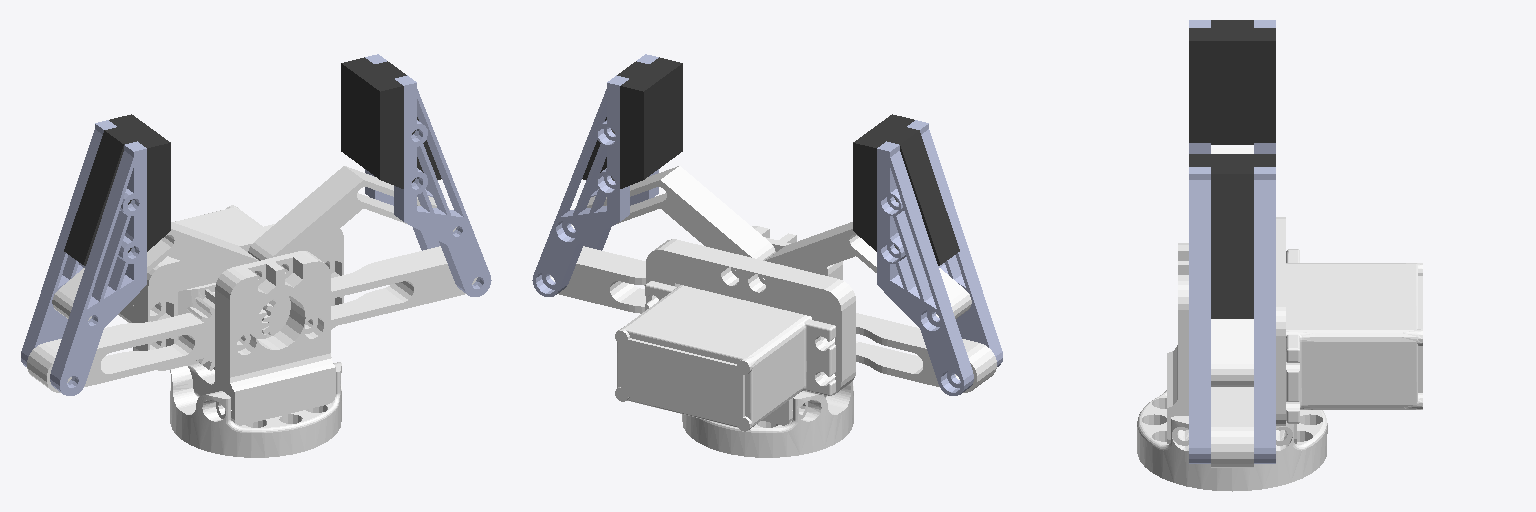
URDF robot description (gripper):
<?xml version="1.0" ?>
<!-- =================================================================================== -->
<!-- |    This document was autogenerated by xacro from [local-path]/Documents/Master/3_Semester/Produktentwicklung/Awesome_Gripper/Bewegungsanalyse/catkin_ws/src/gripper/urdf/gripper_all_joints.urdf.xacro | -->
<!-- |    EDITING THIS FILE BY HAND IS NOT RECOMMENDED                                 | -->
<!-- =================================================================================== -->
<!-- This URDF was automatically created by SolidWorks to URDF Exporter! Originally created by
[author] ([email redacted]) 
     Commit Version: 1.6.0-4-g7f85cfe  Build Version: 1.6.7995.38578
     For more information, please see http://wiki.ros.org/sw_urdf_exporter -->
<robot name="gripper">
    <!-- <link name="world">

  </link>
  <joint name="gripper_joint" type="fixed">
    <parent link="world" />
    <child link="mount_link" />
    <origin xyz="0 0 1" rpy="0 0 -1.57" />
  </joint> -->
    <link name="mount_link">
        <inertial>
            <origin rpy="0 0 0" xyz="-7.69604728464136E-05 0.0135902117365988 0.0250753455696242" />
            <mass value="0.0572428949081024" />
            <inertia ixx="1.08739624685948E-05" ixy="-5.67703825246591E-08" ixz="-4.79892598221548E-12" iyy="1.32071568573059E-05" iyz="-2.91877769990152E-07" izz="1.6026956946386E-05" />
        </inertial>
        <visual>
            <origin rpy="0 0 0" xyz="0 0 0" />
            <geometry>
                <mesh filename="package://gripper/meshes/mount_link.STL" />
            </geometry>
            <material name="">
                <color rgba="1 1 1 0.8" />
            </material>
        </visual>
        <collision>
            <origin rpy="0 0 0" xyz="0 0 0" />
            <geometry>
                <mesh filename="package://gripper/meshes/mount_link.STL" />
            </geometry>
        </collision>
    </link>
    <link name="link_1_left">
        <inertial>
            <origin rpy="0 0 0" xyz="0.0201642304338692 1.38777878078145E-17 0.004236242137124" />
            <mass value="0.00469706452647219" />
            <inertia ixx="1.18042272673537E-07" ixy="2.48380401664581E-22" ixz="-6.12806042251421E-08" iyy="2.05310941947316E-06" iyz="-2.74480147325617E-24" izz="2.10931388717727E-06" />
        </inertial>
        <visual>
            <origin rpy="0 0 0" xyz="0 0 0" />
            <geometry>
                <mesh filename="package://gripper/meshes/link_1_left.STL" />
            </geometry>
            <material name="">
                <color rgba="1 1 1 1" />
            </material>
        </visual>
        <collision>
            <origin rpy="0 0 0" xyz="0 0 0" />
            <geometry>
                <mesh filename="package://gripper/meshes/link_1_left.STL" />
            </geometry>
        </collision>
    </link>
    <joint name="joint_1_left" type="revolute">
        <origin rpy="1.5708 0 3.1416" xyz="-0.01 -0.005 0.02925" />
        <parent link="mount_link" />
        <child link="link_1_left" />
        <axis xyz="0 0 -1" />
        <limit effort="1" lower="-3.14" upper="3.14" velocity="1" />
        <dynamics damping="1" friction="1" />
        <!-- <mimic
      joint="joint_1_right"
      multiplier="-1"
      offset="0" /> -->
    </joint>
    <link name="link_2_left">
        <inertial>
            <origin rpy="0 0 0" xyz="-0.0118635948259238 0.0260158233367256 -9.35122738154528E-05" />
            <mass value="0.00437161591060403" />
            <inertia ixx="1.26241086249325E-06" ixy="4.50233056113258E-07" ixz="1.03279945421963E-09" iyy="2.54614187804496E-07" iyz="-1.94371719517842E-09" izz="1.49861390642806E-06" />
        </inertial>
        <visual>
            <origin rpy="0 0 0" xyz="0 0 0" />
            <geometry>
                <mesh filename="package://gripper/meshes/link_2_left.STL" />
            </geometry>
            <material name="">
                <color rgba="0.792156862745098 0.819607843137255 0.933333333333333 1" />
            </material>
        </visual>
        <collision>
            <origin rpy="0 0 0" xyz="0 0 0" />
            <geometry>
                <mesh filename="package://gripper/meshes/link_2_left.STL" />
            </geometry>
        </collision>
    </link>
    <joint name="joint_2_left" type="revolute">
        <origin rpy="0 0 0" xyz="0.05 0 0.005" />
        <parent link="link_1_left" />
        <child link="link_2_left" />
        <axis xyz="0 0 1" />
        <limit effort="1" lower="-3.14" upper="3.14" velocity="1" />
        <dynamics damping="1" friction="1" />
        <!-- <mimic
      joint="joint_1_left"
      multiplier="1"
      offset="0" /> -->
    </joint>
    <link name="link_3_left">
        <inertial>
            <origin rpy="0 0 0" xyz="-0.00764323689249072 6.15392821018979E-19 -0.0158438878575795" />
            <mass value="0.00676809927823876" />
            <inertia ixx="6.50800323977911E-07" ixy="-2.76588985914095E-23" ixz="-1.32178480768053E-07" iyy="7.0118965410435E-07" iyz="-3.28680901965363E-23" izz="3.53298937602956E-07" />
        </inertial>
        <visual>
            <origin rpy="0 0 0" xyz="0 0 0" />
            <geometry>
                <mesh filename="package://gripper/meshes/link_3_left.STL" />
            </geometry>
            <material name="">
                <color rgba="0.298039215686275 0.298039215686275 0.298039215686275 1" />
            </material>
        </visual>
        <collision>
            <origin rpy="0 0 0" xyz="0 0 0" />
            <geometry>
                <mesh filename="package://gripper/meshes/link_3_left.STL" />
            </geometry>
        </collision>
    </link>
    <joint name="joint_3_left" type="fixed">
        <origin rpy="1.5708 0 3.1416" xyz="-0.029 0.061 0" />
        <parent link="link_2_left" />
        <child link="link_3_left" />
        <axis xyz="0 0 0" />
        <limit effort="1" lower="-3.14" velocity="1" />
    </joint>
    <link name="link_support_left">
        <inertial>
            <origin rpy="0 0 0" xyz="-0.0230443185065054 -1.92516886232946E-18 -0.00617590354942425" />
            <mass value="0.00343879121636352" />
            <inertia ixx="3.3013163060583E-07" ixy="-4.9675081730519E-23" ixz="-3.63783392132806E-07" iyy="9.95820730062242E-07" iyz="1.93019503238979E-23" izz="7.23002286395804E-07" />
        </inertial>
        <visual>
            <origin rpy="0 0 0" xyz="0 0 0" />
            <geometry>
                <mesh filename="package://gripper/meshes/link_support_left.STL" />
            </geometry>
            <material name="">
                <color rgba="1 1 1 1" />
            </material>
        </visual>
        <collision>
            <origin rpy="0 0 0" xyz="0 0 0" />
            <geometry>
                <mesh filename="package://gripper/meshes/link_support_left.STL" />
            </geometry>
        </collision>
    </link>
    <joint name="joint_support_left" type="revolute">
        <origin rpy="0 0.5236 0" xyz="-0.004 0 0.04525" />
        <parent link="mount_link" />
        <child link="link_support_left" />
        <axis xyz="0 1 0" />
        <limit effort="1" lower="-3.14" upper="3.14" velocity="1" />
        <dynamics damping="1" friction="1" />
        <!-- <mimic
      joint="joint_1_left"
      multiplier="-1"
      offset="0" /> -->
    </joint>
    <link name="link_1_right">
        <inertial>
            <origin rpy="0 0 0" xyz="0.0216856425487956 -3.46944695195361E-18 0.000708029008234877" />
            <mass value="0.00477903641271765" />
            <inertia ixx="1.1732564402647E-07" ixy="-1.80664133980049E-23" ixz="6.51369632433988E-08" iyy="2.08980923685234E-06" iyz="-1.49480652486311E-23" izz="2.14169254123333E-06" />
        </inertial>
        <visual>
            <origin rpy="0 0 0" xyz="0 0 0" />
            <geometry>
                <mesh filename="package://gripper/meshes/link_1_right.STL" />
            </geometry>
            <material name="">
                <color rgba="1 1 1 1" />
            </material>
        </visual>
        <collision>
            <origin rpy="0 0 0" xyz="0 0 0" />
            <geometry>
                <mesh filename="package://gripper/meshes/link_1_right.STL" />
            </geometry>
        </collision>
    </link>
    <joint name="joint_1_right" type="revolute">
        <origin rpy="1.5708 0 0" xyz="0.01 0 0.02925" />
        <parent link="mount_link" />
        <child link="link_1_right" />
        <axis xyz="0 0 1" />
        <limit effort="1" lower="0" upper="1.05" velocity="1" />
        <dynamics damping="1" friction="1" />
    </joint>
    <link name="link_2_right">
        <inertial>
            <origin rpy="0 0 0" xyz="-0.0118635948259238 0.0260158233367256 9.35122738154512E-05" />
            <mass value="0.00437161591060403" />
            <inertia ixx="1.26241086249325E-06" ixy="4.50233056113258E-07" ixz="-1.03279945421962E-09" iyy="2.54614187804496E-07" iyz="1.9437171951784E-09" izz="1.49861390642806E-06" />
        </inertial>
        <visual>
            <origin rpy="0 0 0" xyz="0 0 0" />
            <geometry>
                <mesh filename="package://gripper/meshes/link_2_right.STL" />
            </geometry>
            <material name="">
                <color rgba="0.792156862745098 0.819607843137255 0.933333333333333 1" />
            </material>
        </visual>
        <collision>
            <origin rpy="0 0 0" xyz="0 0 0" />
            <geometry>
                <mesh filename="package://gripper/meshes/link_2_right.STL" />
            </geometry>
        </collision>
    </link>
    <joint name="joint_2_right" type="revolute">
        <origin rpy="0 0 0" xyz="0.05 0 0" />
        <parent link="link_1_right" />
        <child link="link_2_right" />
        <axis xyz="0 0 -1" />
        <limit effort="1" lower="-3.14" upper="3.14" velocity="1" />
        <dynamics damping="1" friction="1" />
        <!-- <mimic
      joint="joint_1_right"
      multiplier="1"
      offset="0" /> -->
    </joint>
    <link name="link_3_right">
        <inertial>
            <origin rpy="0 0 0" xyz="0.00764323689249072 -6.70481136450209E-19 -0.0158438878575795" />
            <mass value="0.00676809927823876" />
            <inertia ixx="6.50800323977911E-07" ixy="-3.90699123108268E-23" ixz="1.32178480768053E-07" iyy="7.0118965410435E-07" iyz="-1.94350230005656E-23" izz="3.53298937602955E-07" />
        </inertial>
        <visual>
            <origin rpy="0 0 0" xyz="0 0 0" />
            <geometry>
                <mesh filename="package://gripper/meshes/link_3_right.STL" />
            </geometry>
            <material name="">
                <color rgba="0.298039215686275 0.298039215686275 0.298039215686275 1" />
            </material>
        </visual>
        <collision>
            <origin rpy="0 0 0" xyz="0 0 0" />
            <geometry>
                <mesh filename="package://gripper/meshes/link_3_right.STL" />
            </geometry>
        </collision>
    </link>
    <joint name="joint_3_right" type="fixed">
        <origin rpy="-1.5708 0 0" xyz="-0.029 0.061 0" />
        <parent link="link_2_right" />
        <child link="link_3_right" />
        <axis xyz="0 0 0" />
    </joint>
    <link name="link_support_right">
        <inertial>
            <origin rpy="0 0 0" xyz="-0.0230443185065054 2.00458308010044E-18 -0.00617590354942422" />
            <mass value="0.00343879121636352" />
            <inertia ixx="3.3013163060583E-07" ixy="1.63567262663565E-23" ixz="-3.63783392132805E-07" iyy="9.95820730062241E-07" iyz="2.40140706788198E-23" izz="7.23002286395803E-07" />
        </inertial>
        <visual>
            <origin rpy="0 0 0" xyz="0 0 0" />
            <geometry>
                <mesh filename="package://gripper/meshes/link_support_right.STL" />
            </geometry>
            <material name="">
                <color rgba="1 1 1 1" />
            </material>
        </visual>
        <collision>
            <origin rpy="0 0 0" xyz="0 0 0" />
            <geometry>
                <mesh filename="package://gripper/meshes/link_support_right.STL" />
            </geometry>
        </collision>
    </link>
    <joint name="joint_support_right" type="revolute">
        <origin rpy="0 0.5236 -3.1416" xyz="0.004 0 0.04525" />
        <parent link="mount_link" />
        <child link="link_support_right" />
        <axis xyz="0 1 0" />
        <limit effort="1" lower="-3.14" upper="3.14" velocity="1" />
        <dynamics damping="1" friction="1" />
        <!-- <mimic
      joint="joint_1_right"
      multiplier="1"
      offset="0" /> -->
    </joint>
    <!-- <link name="tcp_link">
    <visual>
      <origin xyz="0 0 0" rpy="0 0 0" />
      <geometry>
        <sphere radius="0.005" />
      </geometry>
      <material name="yellow">
        <color rgba="1 0 0 0.5" />
      </material>
    </visual>
  </link>

  <joint name="joint_tcp" type="prismatic">
    <parent link="mount_link" />
    <child link="tcp_link" />
    <origin xyz="0 0 0" rpy="0 0 0" /> 
    <axis xyz="0 0 1" />
    <limit lower="0.08" upper="0.13" effort="10" velocity="0.13" />
  </joint> -->
    <transmission name="trans_joint_1_left">
        <type>transmission_interface/SimpleTransmission</type>
        <joint name="joint_1_left">
            <hardwareInterface>hardware_interface/PositionJointInterface</hardwareInterface>
        </joint>
        <actuator name="joint_1_left_motor">
            <hardwareInterface>hardware_interface/PositionJointInterface</hardwareInterface>
            <mechanicalReduction>1</mechanicalReduction>
        </actuator>
    </transmission>
    <transmission name="trans_joint_2_left">
        <type>transmission_interface/SimpleTransmission</type>
        <joint name="joint_2_left">
            <hardwareInterface>hardware_interface/PositionJointInterface</hardwareInterface>
        </joint>
        <actuator name="joint_2_left_motor">
            <hardwareInterface>hardware_interface/PositionJointInterface</hardwareInterface>
            <mechanicalReduction>1</mechanicalReduction>
        </actuator>
    </transmission>
    <transmission name="trans_joint_support_left">
        <type>transmission_interface/SimpleTransmission</type>
        <joint name="joint_support_left">
            <hardwareInterface>hardware_interface/PositionJointInterface</hardwareInterface>
        </joint>
        <actuator name="joint_support_left_motor">
            <hardwareInterface>hardware_interface/PositionJointInterface</hardwareInterface>
            <mechanicalReduction>1</mechanicalReduction>
        </actuator>
    </transmission>
    <transmission name="trans_joint_1_right">
        <type>transmission_interface/SimpleTransmission</type>
        <joint name="joint_1_right">
            <hardwareInterface>hardware_interface/PositionJointInterface</hardwareInterface>
        </joint>
        <actuator name="joint_1_right_motor">
            <hardwareInterface>hardware_interface/PositionJointInterface</hardwareInterface>
            <mechanicalReduction>1</mechanicalReduction>
        </actuator>
    </transmission>
    <!-- <xacro:mimic_joint_plugin_gazebo name_prefix="joint_1_left"
  parent_joint="joint_1_right" mimic_joint="joint_1_left"
  has_pid="true" multiplier="-1.0" max_effort="100" />

  <xacro:mimic_joint_plugin_gazebo name_prefix="joint_2_right"
  parent_joint="joint_1_right" mimic_joint="joint_2_right"
  has_pid="true" multiplier="1.0" max_effort="100" />

  <xacro:mimic_joint_plugin_gazebo name_prefix="joint_support_right"
  parent_joint="joint_1_right" mimic_joint="joint_support_right"
  has_pid="true" multiplier="1.0" max_effort="100" />

  <xacro:mimic_joint_plugin_gazebo name_prefix="joint_2_left"
  parent_joint="joint_1_left" mimic_joint="joint_2_left"
  has_pid="true" multiplier="1.0" max_effort="100" />

  <xacro:mimic_joint_plugin_gazebo name_prefix="joint_support_left"
  parent_joint="joint_1_left" mimic_joint="joint_support_left"
  has_pid="true" multiplier="-1.0" max_effort="100" /> -->
    <transmission name="trans_joint_2_right">
        <type>transmission_interface/SimpleTransmission</type>
        <joint name="joint_2_right">
            <hardwareInterface>hardware_interface/PositionJointInterface</hardwareInterface>
        </joint>
        <actuator name="joint_2_right_motor">
            <hardwareInterface>hardware_interface/PositionJointInterface</hardwareInterface>
            <mechanicalReduction>1</mechanicalReduction>
        </actuator>
    </transmission>
    <transmission name="trans_joint_support_right">
        <type>transmission_interface/SimpleTransmission</type>
        <joint name="joint_support_right">
            <hardwareInterface>hardware_interface/PositionJointInterface</hardwareInterface>
        </joint>
        <actuator name="joint_support_right_motor">
            <hardwareInterface>hardware_interface/PositionJointInterface</hardwareInterface>
            <mechanicalReduction>1</mechanicalReduction>
        </actuator>
    </transmission>
    <!-- <transmission name="trans_joint_tcp">
    <type>transmission_interface/SimpleTransmission</type>
    <joint name="joint_tcp">
      <hardwareInterface>hardware_interface/PositionJointInterface</hardwareInterface>
    </joint>
    <actuator name="joint_tcp_motor">
      <hardwareInterface>hardware_interface/PositionJointInterface</hardwareInterface>
      <mechanicalReduction>1</mechanicalReduction>
    </actuator>
  </transmission> -->
    <gazebo>
        <plugin filename="libgazebo_ros_control.so" name="control" />
        <plugin name="gazebo_ros_control" filename="libgazebo_ros_control.so">
            <robotNamespace>/</robotNamespace>
        </plugin>
    </gazebo>
    <gazebo>
        <plugin filename="libgazebo_ros_joint_state_publisher.so" name="joint_state_publisher">
            <jointName>joint_1_left, joint_2_left, joint_support_left, joint_1_right, joint_2_right, joint_support_right</jointName>
        </plugin>
    </gazebo>
</robot>

--- What the picture shows (computed from the rendered views, not written in the file) ---
The picture shows the robot from 3 angles, left to right: view 1: azimuth 30°, elevation 25°; view 2: azimuth 150°, elevation 25°; view 3: azimuth 270°, elevation 25°; orthographic projection.
Robot: gripper — 9 links, 8 joints (6 revolute, 2 fixed); root link mount_link; default pose: every joint at zero.
Links seen in each view (by area): view 1: mount_link, link_2_left, link_2_right, link_1_left, link_3_right, link_1_right, link_3_left, link_support_right, link_support_left; view 2: mount_link, link_2_left, link_2_right, link_3_right, link_3_left, link_support_right, link_1_left, link_1_right, link_support_left; view 3: mount_link, link_2_right, link_3_left, link_3_right, link_1_right, link_support_right, link_2_left.
Boxes of the visible links, box(x1,y1,x2,y2) form: mount_link: box(118, 205, 343, 457); link_2_left: box(21, 120, 146, 395); link_2_right: box(365, 54, 491, 296); link_1_left: box(27, 289, 268, 392); link_3_right: box(341, 57, 441, 188); link_1_right: box(262, 246, 477, 337); link_3_left: box(64, 114, 170, 265); link_support_right: box(248, 166, 456, 266); link_support_left: box(52, 222, 258, 320); mount_link: box(615, 226, 855, 457); link_2_left: box(877, 120, 1002, 395); link_2_right: box(532, 54, 658, 296); link_3_right: box(582, 57, 682, 188); link_3_left: box(853, 114, 959, 265); link_support_right: box(571, 166, 775, 260); link_1_left: box(856, 313, 996, 392); link_1_right: box(550, 246, 645, 313); link_support_left: box(765, 222, 971, 318); mount_link: box(1137, 217, 1422, 491); link_2_right: box(1189, 167, 1275, 463); link_3_left: box(1189, 20, 1275, 144); link_3_right: box(1189, 154, 1275, 318); link_1_right: box(1211, 387, 1253, 467); link_support_right: box(1211, 319, 1253, 386); link_2_left: box(1189, 20, 1275, 153).
Bounding box of the posed robot: 0.1298 × 0.066 × 0.0903 m (x, y, z).
9 mesh visuals loaded from 9 distinct referenced files (9 binary STL).